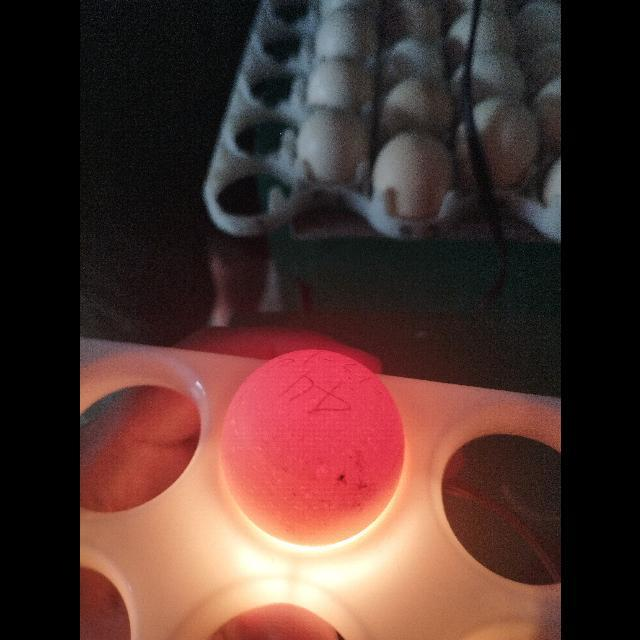A - Good: (216, 346, 408, 552)
